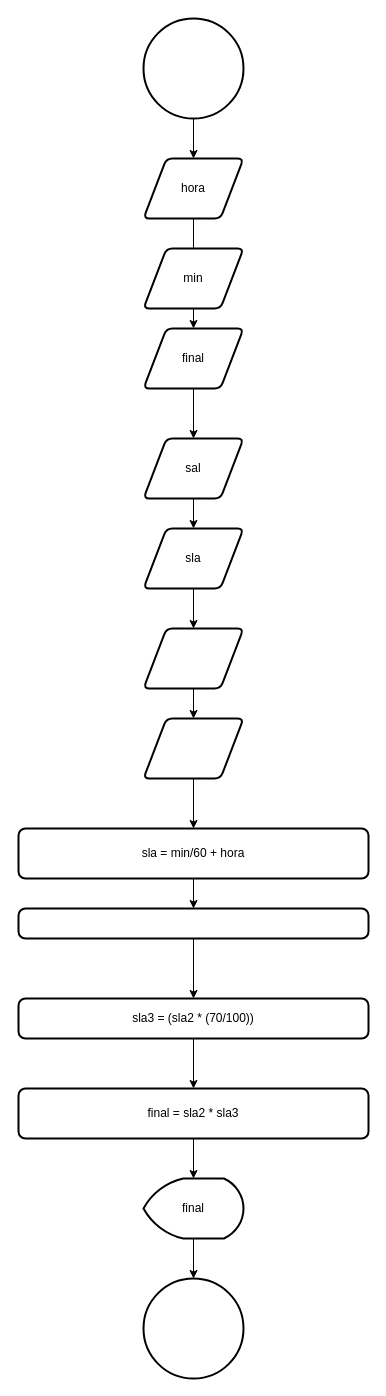
The diagram is 386 pixels wide and 1396 high, and some of its shapes have lost their labels. The shapes that lost their labels are listed below. From the top down, each one's box as (x1, y1, x2, y2) in pixels, then its label:
(142, 17, 244, 119): INICIO
(142, 627, 244, 689): sla2
(142, 717, 244, 779): sla3
(17, 907, 369, 939): sla2 = sal * sla
(142, 1277, 244, 1379): FIM
